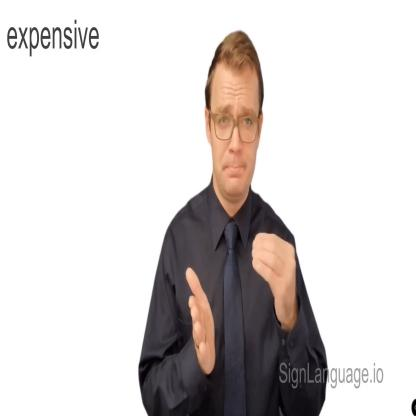Expensive: (183, 228, 303, 374)
